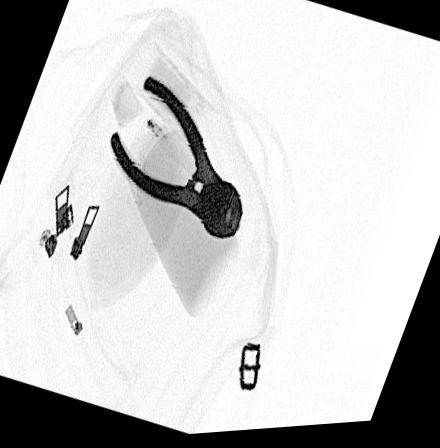Pliers: (105, 77, 247, 246)
